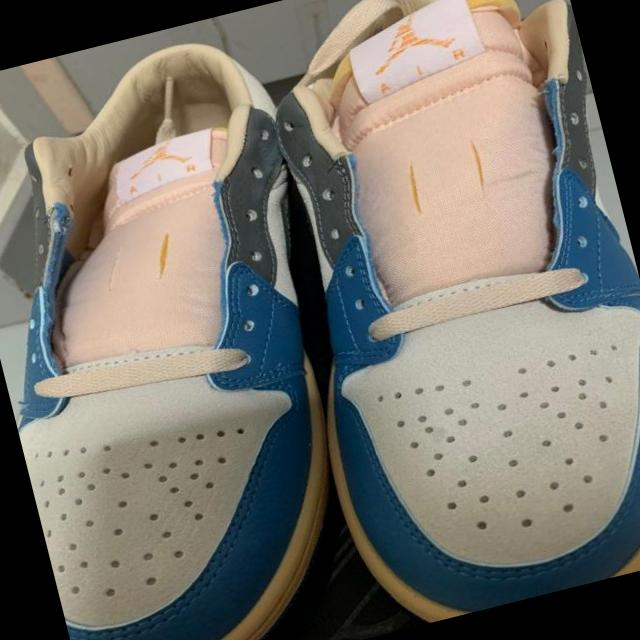nike_original_jordan: (216, 0, 640, 637), (0, 7, 407, 640)
